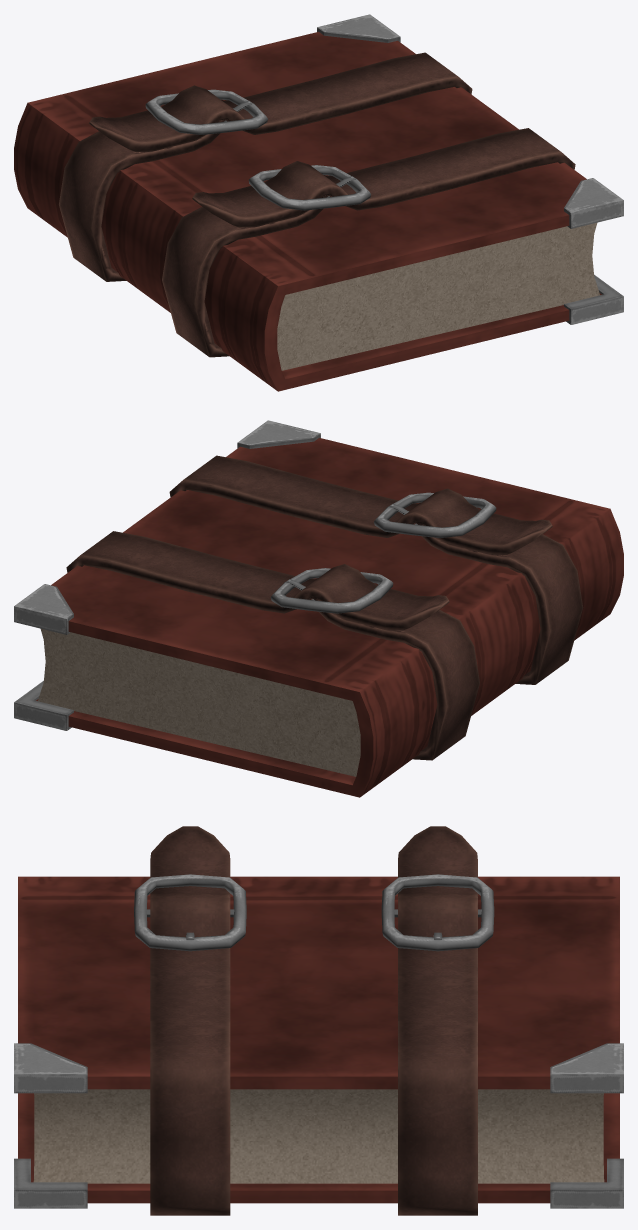
The model's file is Libro.fbx.
3 views of the same model, one above another, from view 1: azimuth 30°, elevation 25°; view 2: azimuth 150°, elevation 25°; view 3: azimuth 270°, elevation 25° (orthographic). The views are drawn at different scales.
Parts seen in each view (by area): view 1: Cover_low, Pages_low, Belt_low, Belt_low.001, Angles_low, Circle_low.001, Circle_low; view 2: Cover_low, Pages_low, Belt_low.001, Belt_low, Angles_low, Circle_low, Circle_low.001; view 3: Cover_low, Pages_low, Belt_low.001, Belt_low, Angles_low, Circle_low.001, Circle_low.
Boxes of the visible parts, x1,y1,x2,y2 form: Cover_low: (14,32,601,391); Pages_low: (277,223,599,370); Belt_low: (59,52,472,281); Belt_low.001: (162,128,575,357); Angles_low: (317,14,623,324); Circle_low.001: (248,165,371,210); Circle_low: (145,89,267,134); Cover_low: (36,438,623,797); Pages_low: (38,629,360,776); Belt_low.001: (169,455,583,684); Belt_low: (66,531,479,760); Angles_low: (14,420,320,730); Circle_low: (270,568,393,613); Circle_low.001: (374,492,496,537); Cover_low: (18,876,619,1203); Pages_low: (33,1089,604,1183); Belt_low.001: (150,826,230,1215); Belt_low: (398,826,477,1215); Angles_low: (14,1043,623,1208); Circle_low.001: (134,874,246,951); Circle_low: (381,874,494,951).
Bounding box in the file's own units: 27.63 × 10.9 × 31.96.
Materials: 1 (1 with a texture image).
